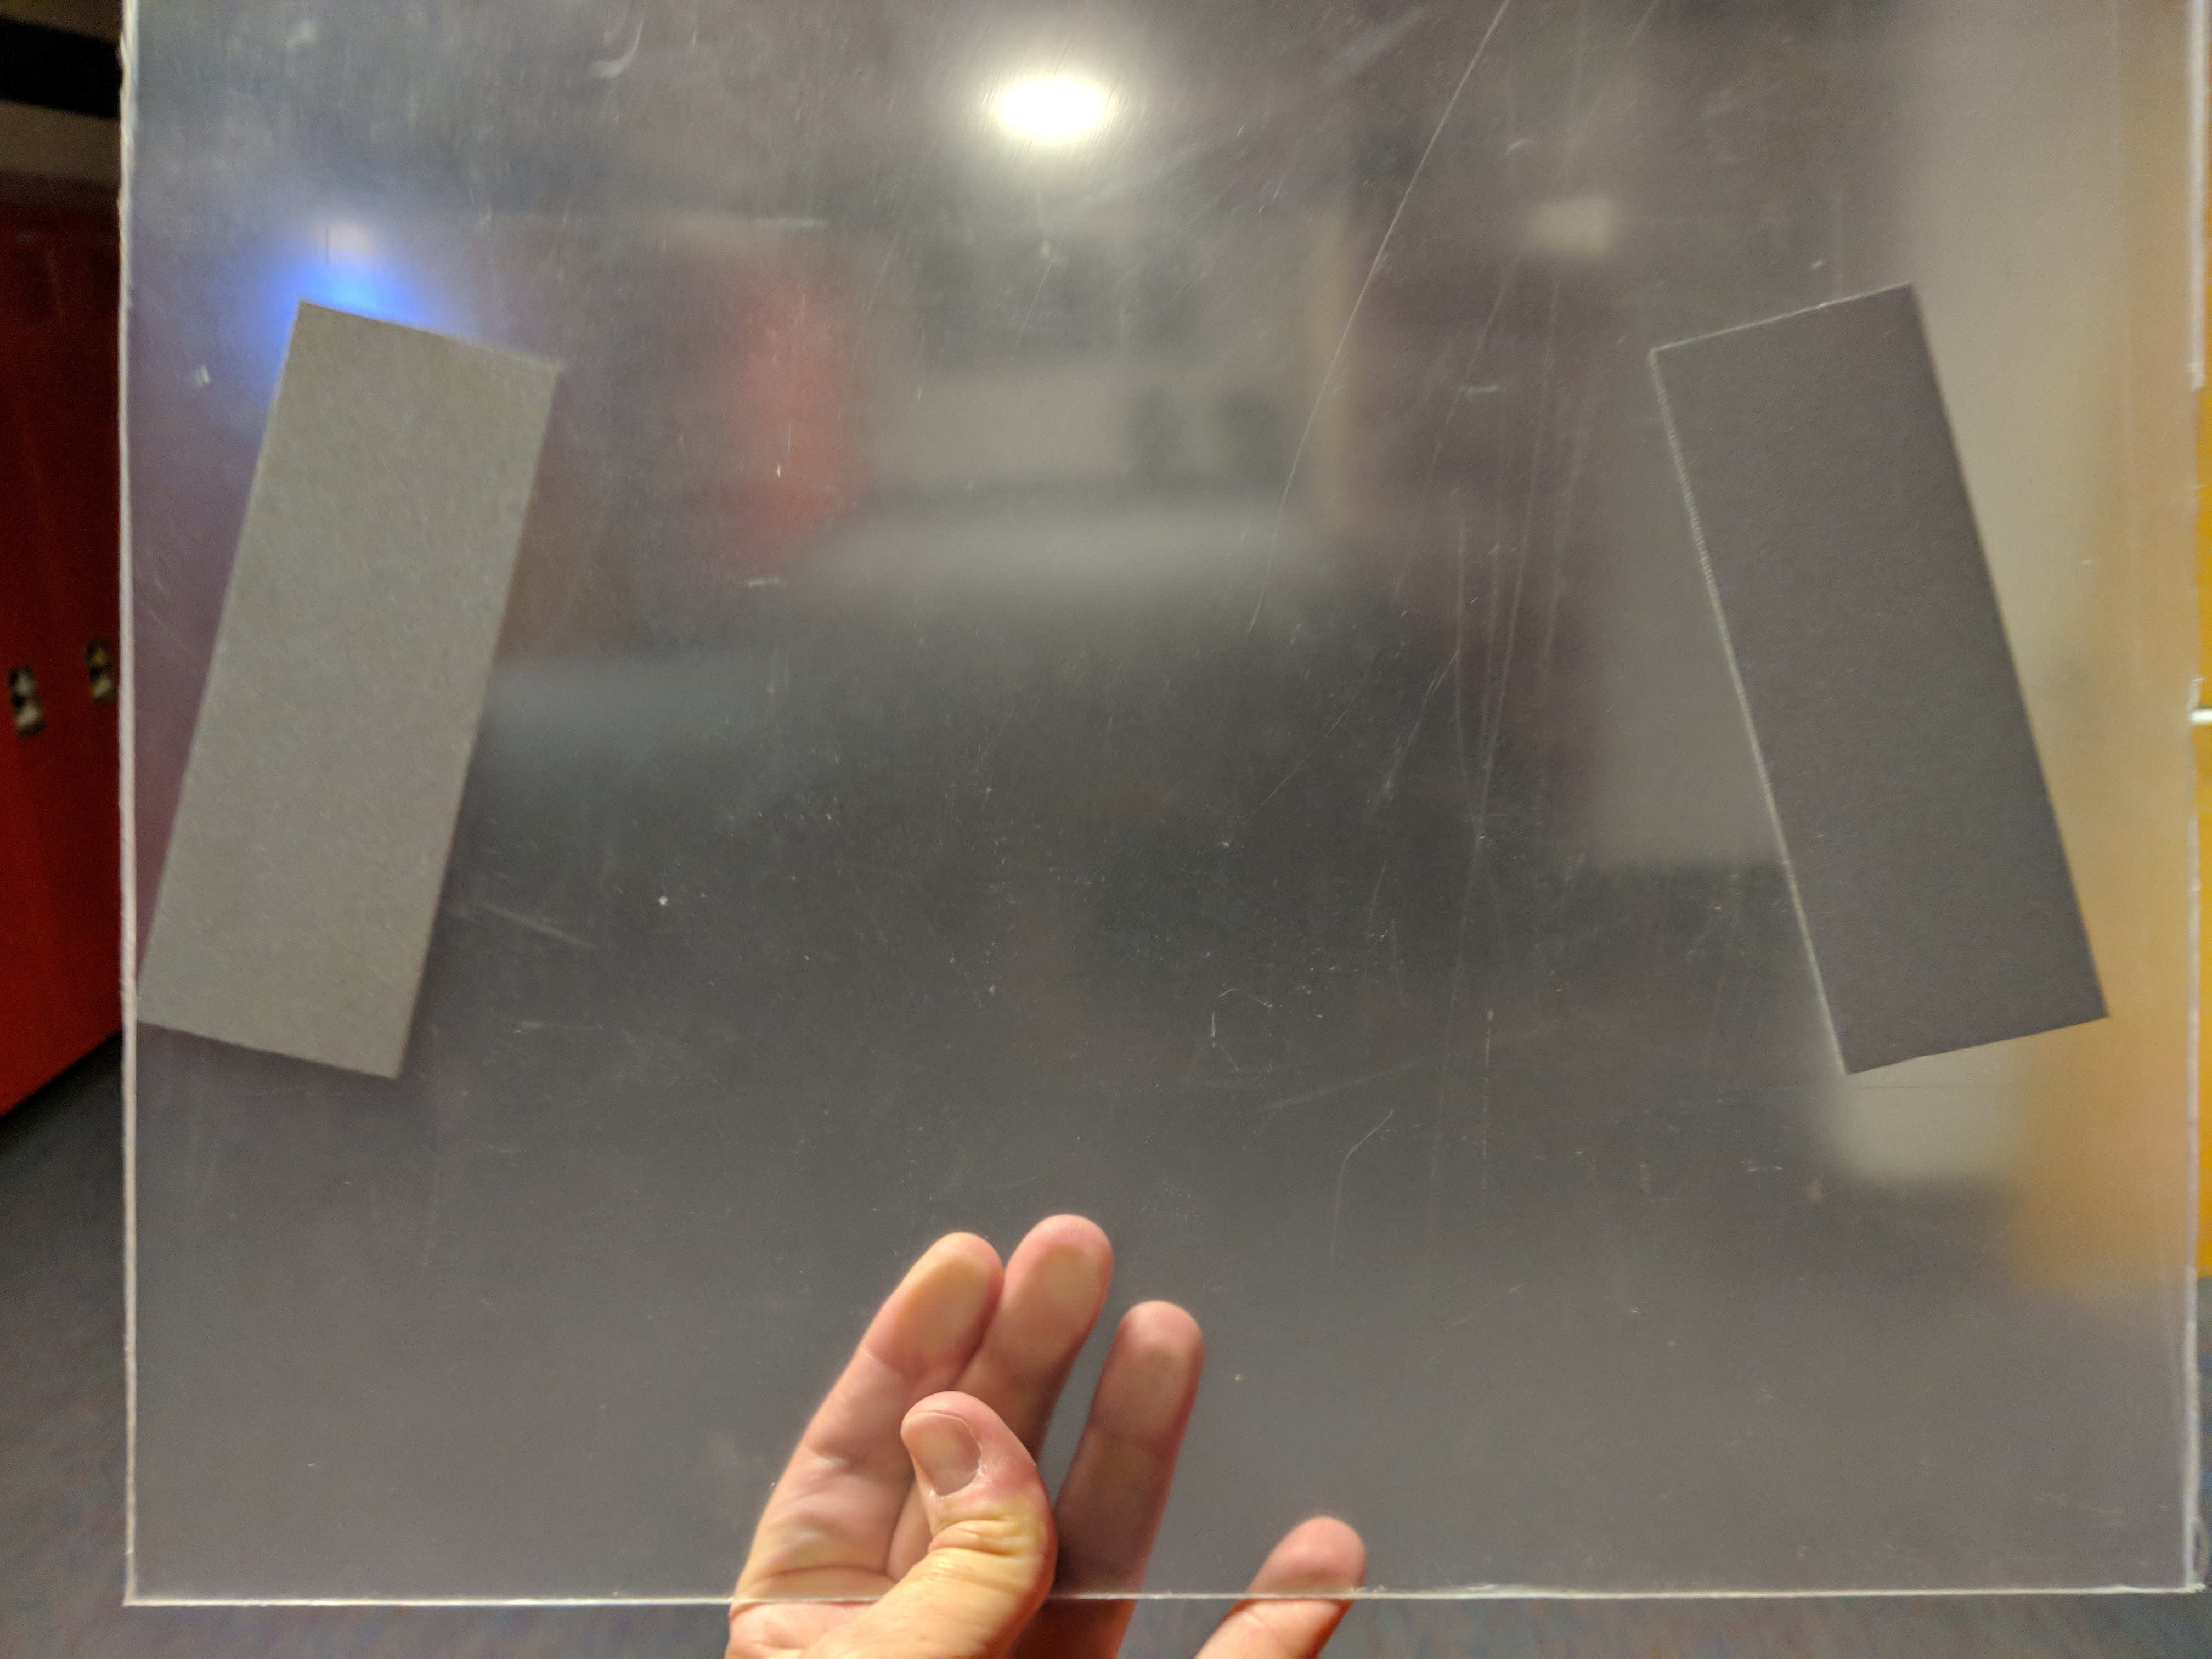vision_target: (129, 268, 2118, 1096)
